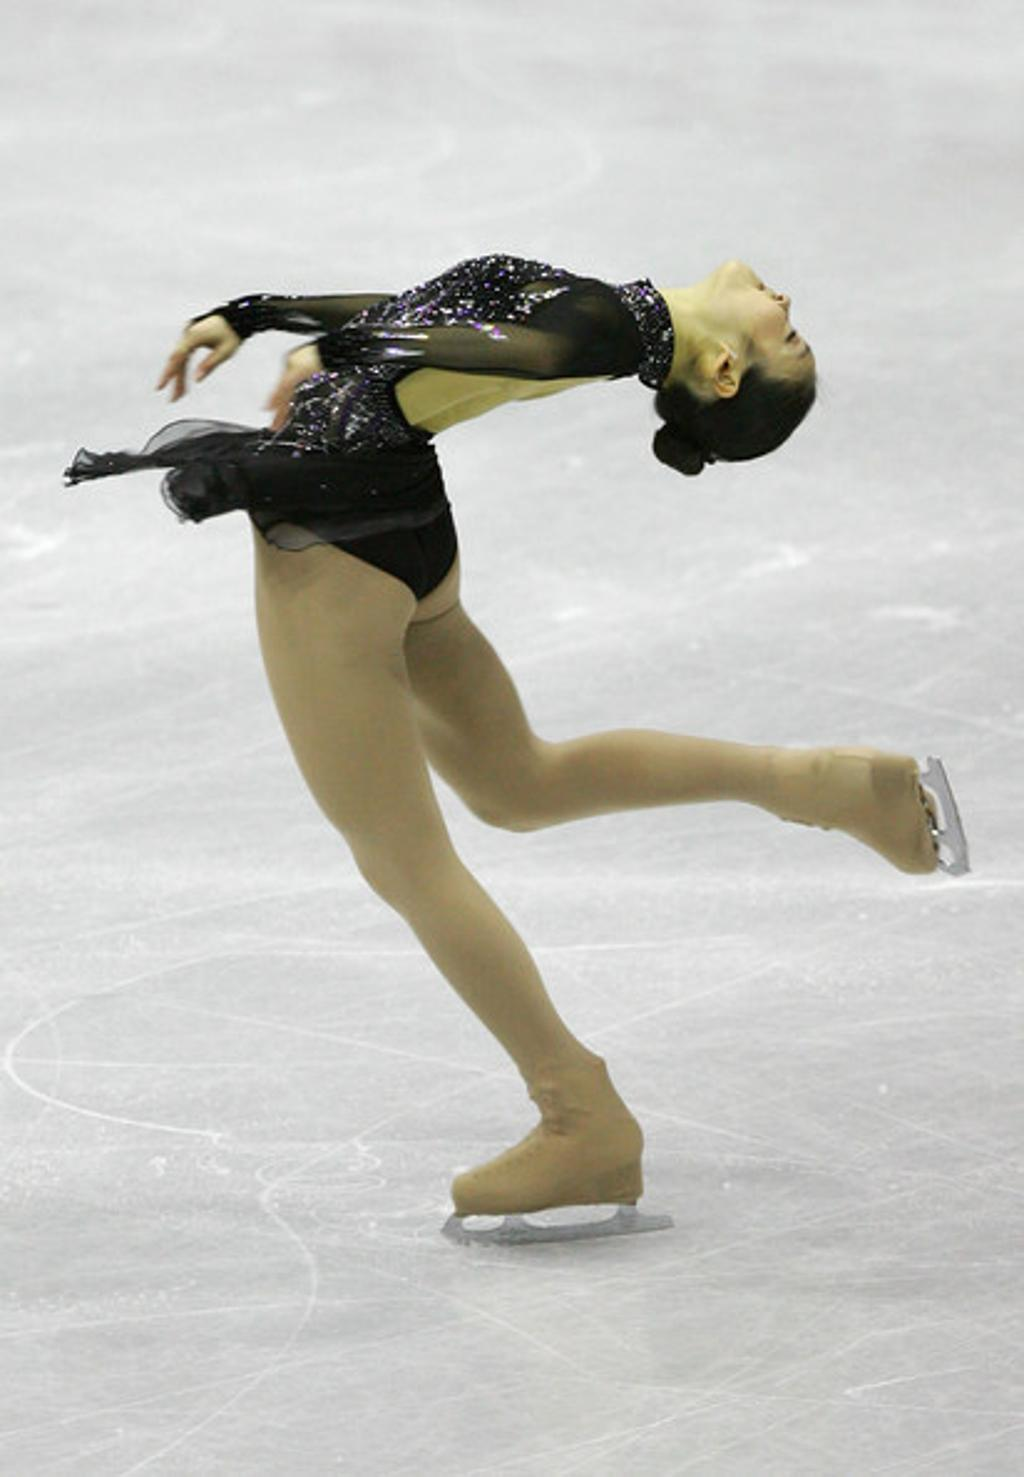face: (710, 262, 817, 377)
